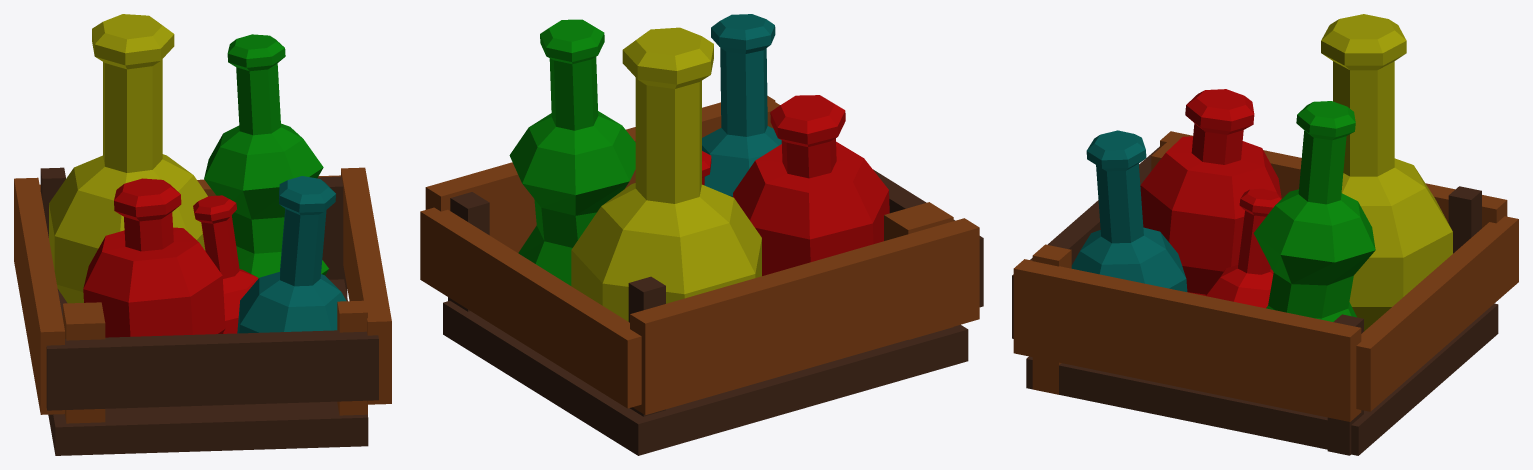
File: Crate Of Bottles.fbx
3 renders of one model, left to right at view 1: azimuth 30°, elevation 25°; view 2: azimuth 150°, elevation 25°; view 3: azimuth 270°, elevation 25°, orthographic. The views are drawn at different scales.
Visible parts, largest first — view 1: Box011, Cylinder001, Cylinder004, Cylinder003, Cylinder002, Cylinder005; view 2: Box011, Cylinder001, Cylinder004, Cylinder003, Cylinder002; view 3: Box011, Cylinder001, Cylinder004, Cylinder003, Cylinder002, Cylinder005.
Boxes of the visible parts, <box> form: Box011: <box>14,167,391,455</box>; Cylinder001: <box>49,14,207,303</box>; Cylinder004: <box>83,178,225,337</box>; Cylinder003: <box>204,34,328,278</box>; Cylinder002: <box>237,176,346,333</box>; Cylinder005: <box>193,195,258,333</box>; Box011: <box>420,95,983,455</box>; Cylinder001: <box>571,27,761,321</box>; Cylinder004: <box>733,95,889,275</box>; Cylinder003: <box>509,19,635,285</box>; Cylinder002: <box>702,14,781,197</box>; Box011: <box>1012,131,1518,455</box>; Cylinder001: <box>1321,14,1452,331</box>; Cylinder004: <box>1140,89,1281,295</box>; Cylinder003: <box>1253,101,1375,321</box>; Cylinder002: <box>1071,130,1187,291</box>; Cylinder005: <box>1206,188,1281,308</box>.
Bounding box in the file's own units: 22.64 × 16.63 × 23.53.
